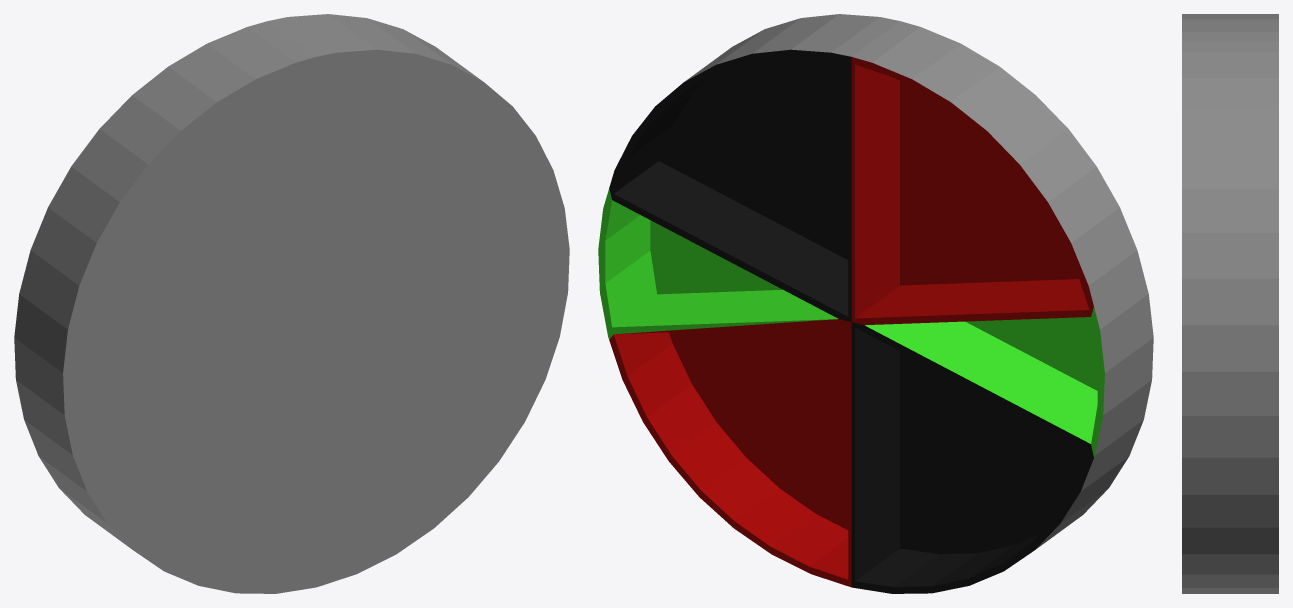
Rendered from Roulette_table.dae.
The picture shows the model from 3 angles, left to right: view 1: azimuth 30°, elevation 25°; view 2: azimuth 150°, elevation 25°; view 3: azimuth 270°, elevation 25°; orthographic projection.
Parts seen in each view (by area): view 1: Roulette_table; view 2: Roulette_table; view 3: Roulette_table.
Part boxes in pixels (<box>): Roulette_table: <box>14,14,569,593</box>; Roulette_table: <box>598,14,1153,593</box>; Roulette_table: <box>1182,14,1278,593</box>.
Bounding box in the file's own units: 0.9898 × 0.1651 × 0.9906.
